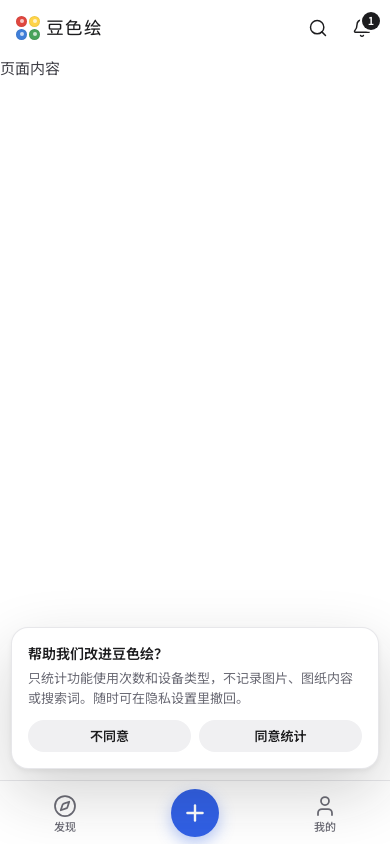
Scenario: 通知铃铛 › 发现页手机顶栏：底部面板的标题行里是「全部已读」
Click the button "1" at (362, 28), box [342,8,382,48]
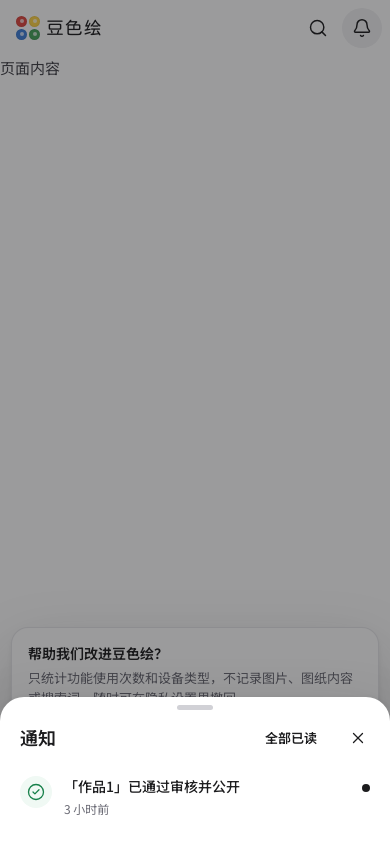
Expected: the button "全部已读" is shown, [252,722,330,754]
